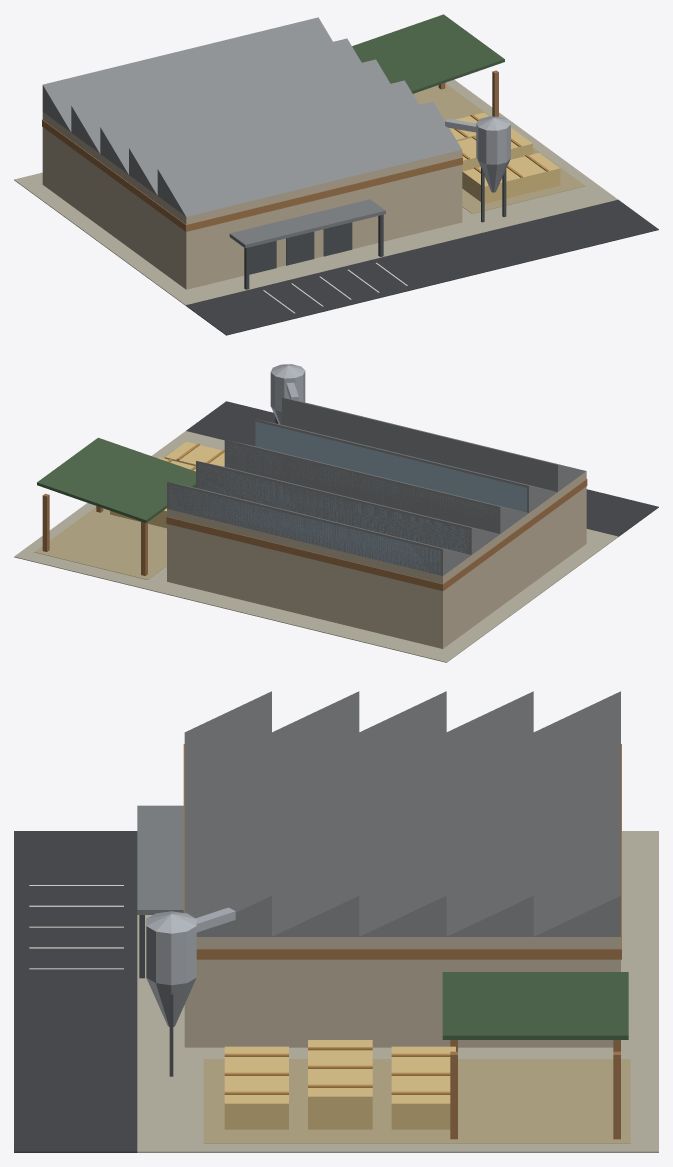
File: furniture.glb
The picture shows the model from 3 angles, top to bottom: view 1: azimuth 30°, elevation 25°; view 2: azimuth 150°, elevation 25°; view 3: azimuth 270°, elevation 25°; orthographic projection. The views are drawn at different scales.
Visible parts, largest first — view 1: furniture; view 2: furniture; view 3: furniture.
Part boxes in pixels (x1,y1,x2,y2): furniture: (14,14,658,335); furniture: (14,364,658,662); furniture: (14,691,658,1152).
Bounding box in the file's own units: 40 × 9 × 34.
